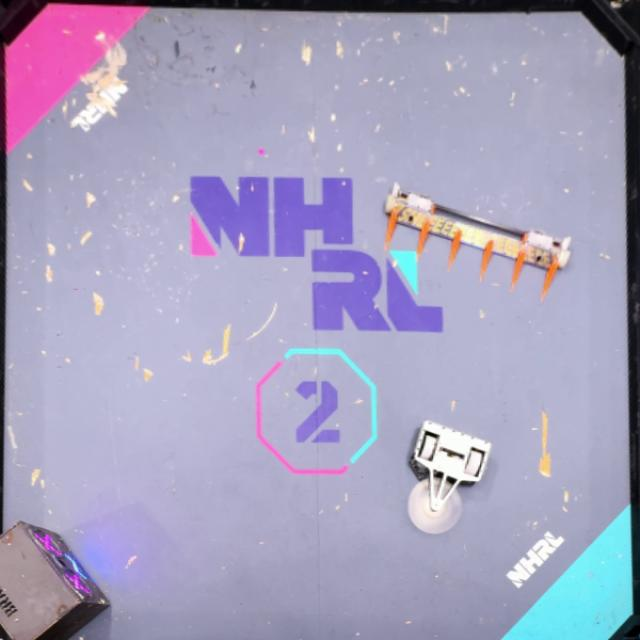housebot: (0, 523, 110, 639)
robot: (383, 182, 572, 299), (409, 419, 491, 537)
